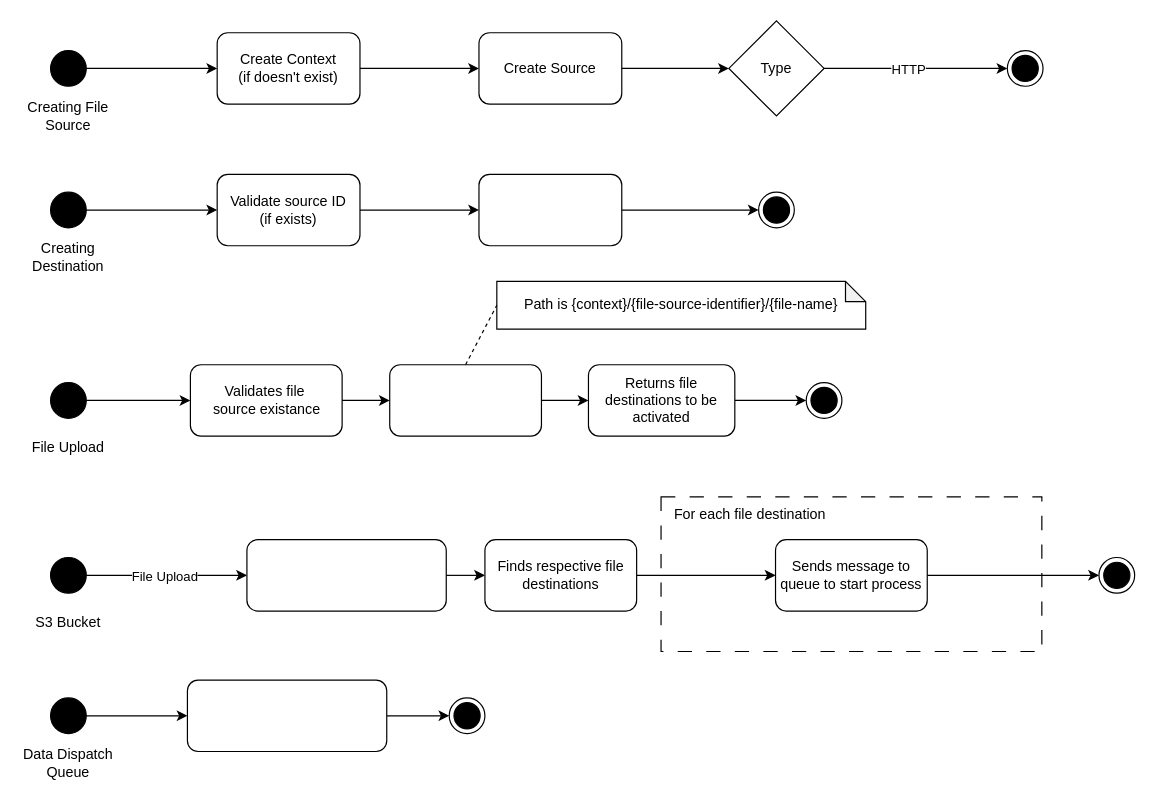
This 1155x802 diagram has some shape labels left out. Each missing label, with the centre of its shape:
Create Destination: (550,209)
Fetches file and executes process with given file destination rules: (286,715)
Finds file source using sub-path and sub-sub-path: (346,574)
Uploads file to internal S3 bucket: (465,400)
